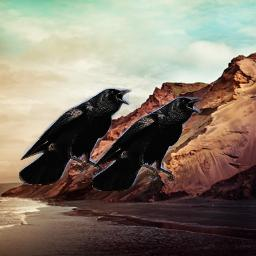Crow: (19, 87, 132, 185), (92, 96, 202, 191)
